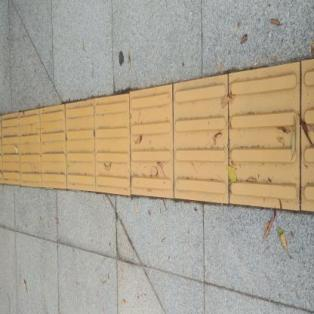Podoctatil: (0, 51, 313, 223)
